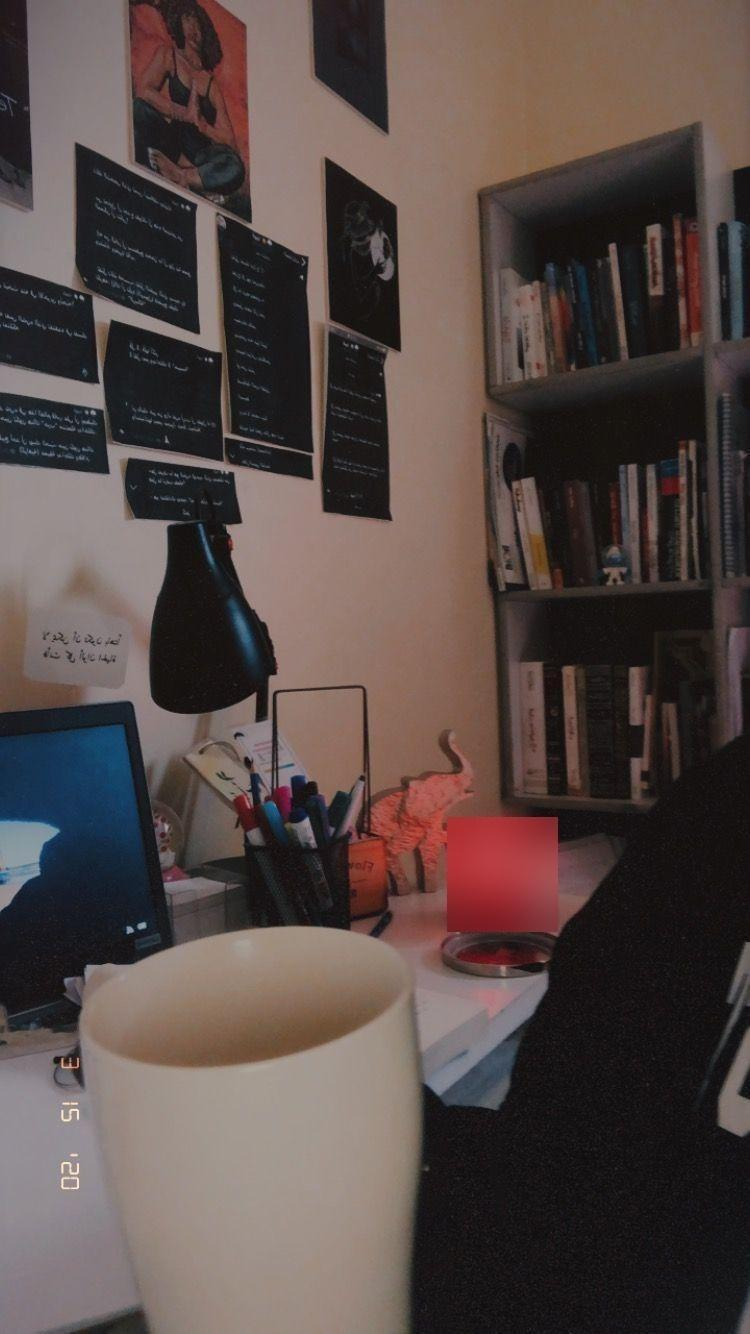cup-handle: (76, 922, 428, 1333)
